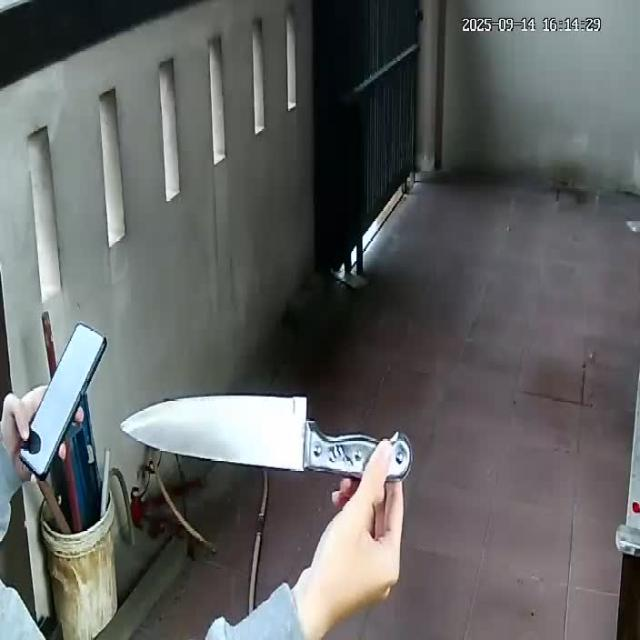senjata_tajam: (120, 391, 358, 478)
